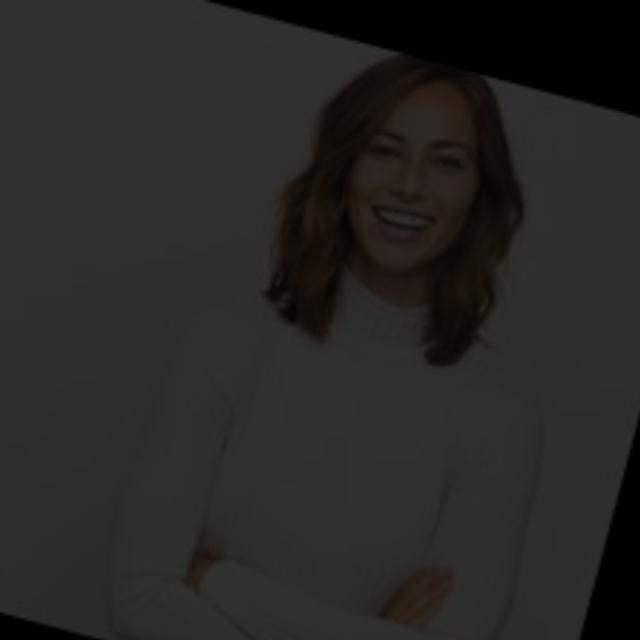happy: (313, 95, 502, 345)
